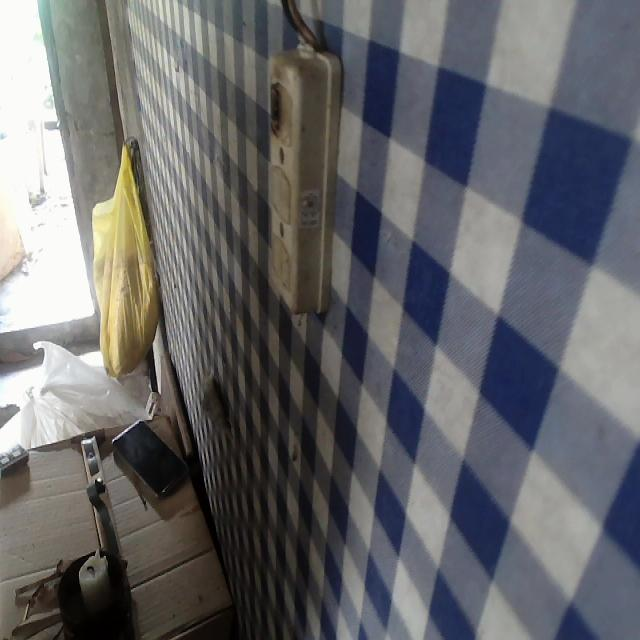-: (261, 72, 286, 141)
